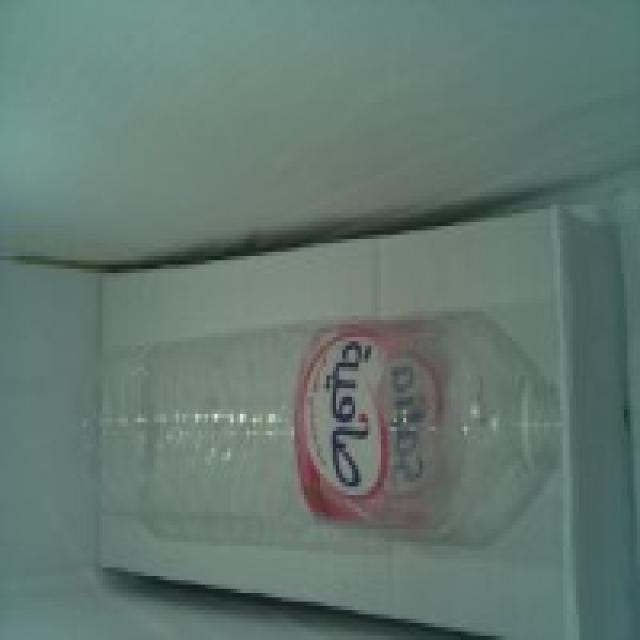Anorganik: (80, 303, 566, 546)
